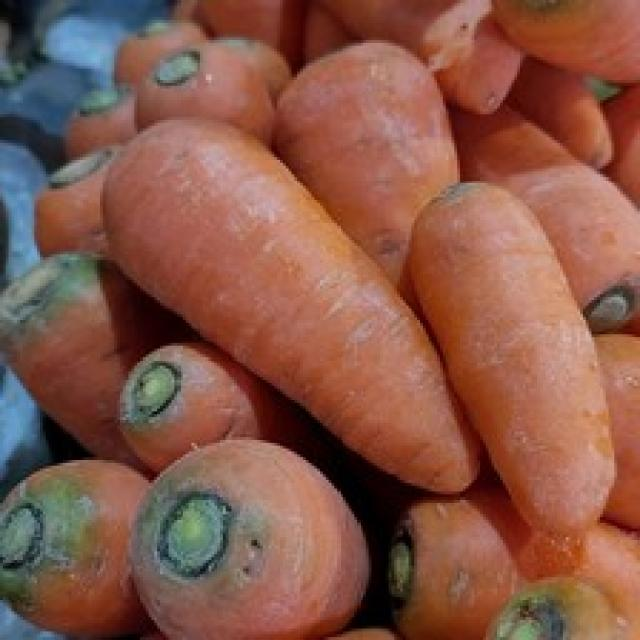Fresh_Carrot: (134, 20, 640, 623)
